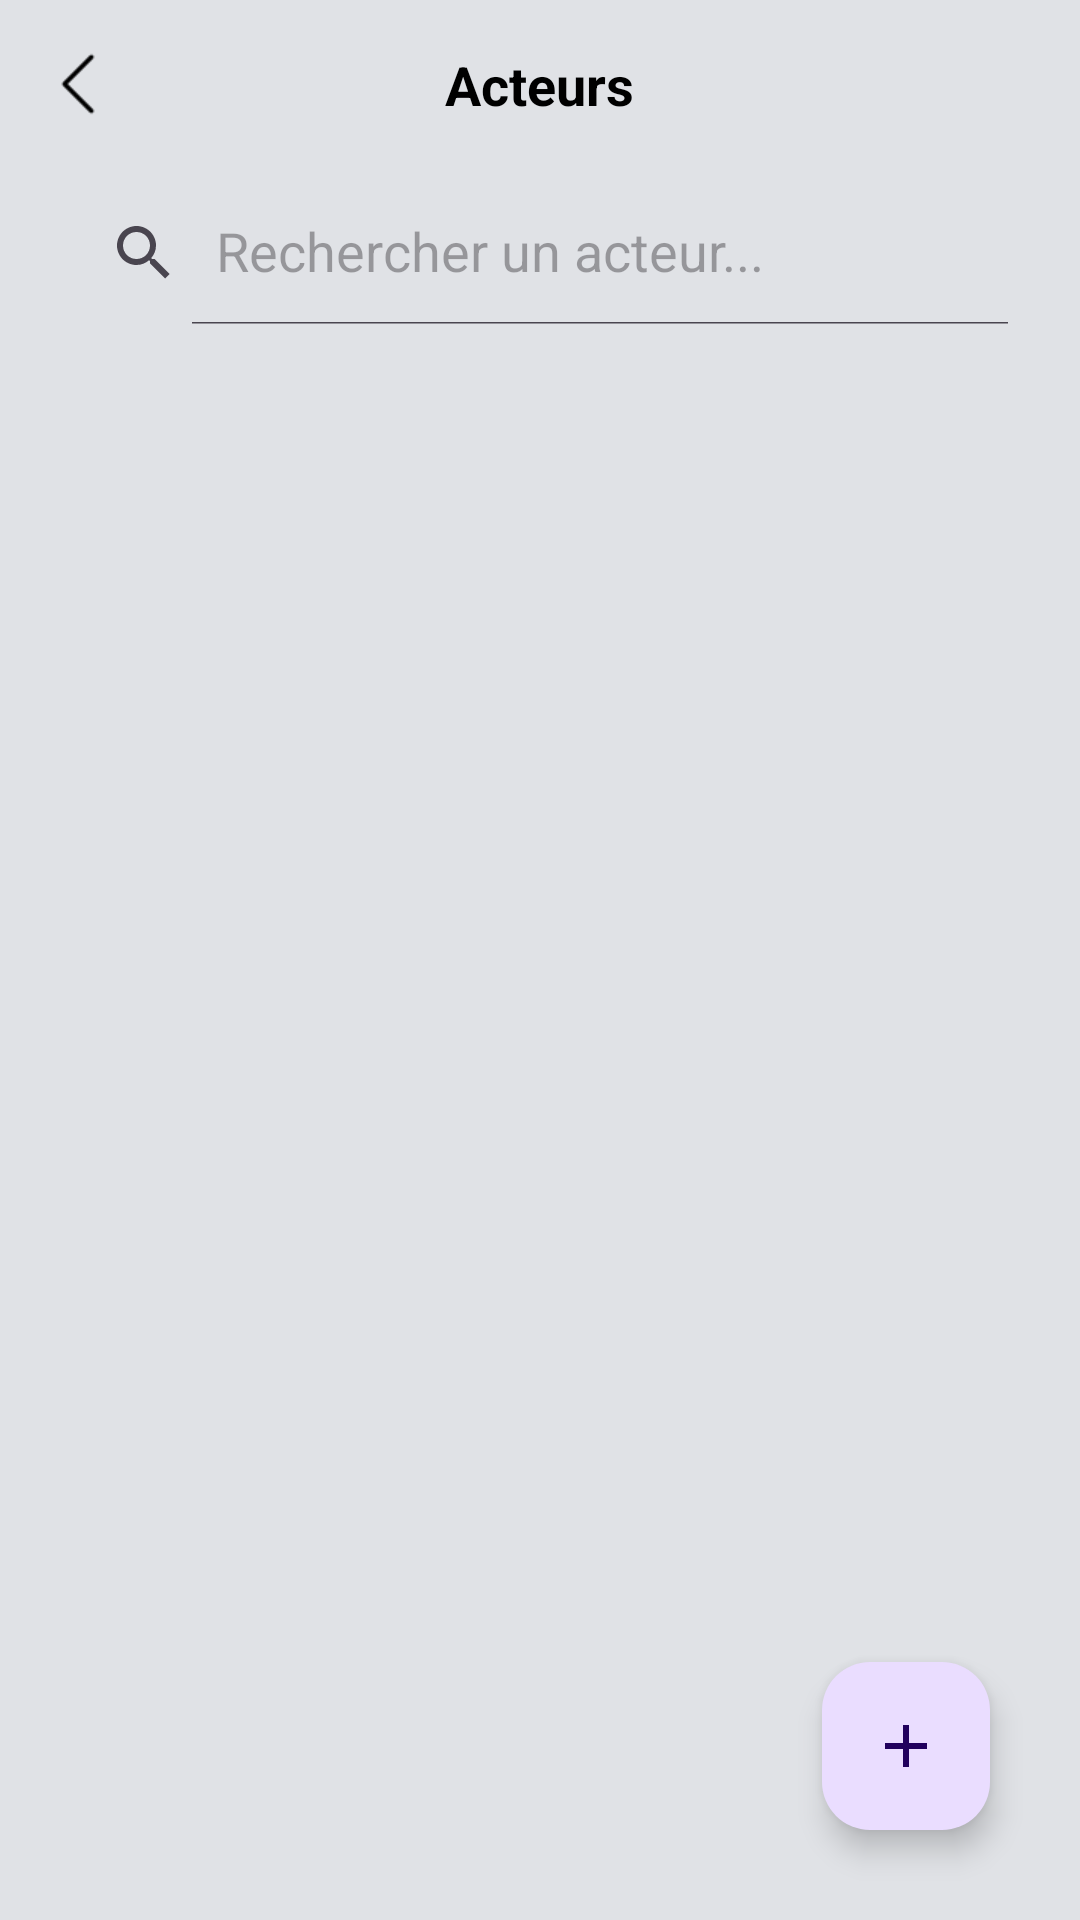

Screen size 1080px×1920px. Icon name, then its box in pixels as (left=x1, top=y1, right=x2, bottom=y2):
add: (left=822, top=1662, right=990, bottom=1830)
back: (left=61, top=54, right=95, bottom=114)
